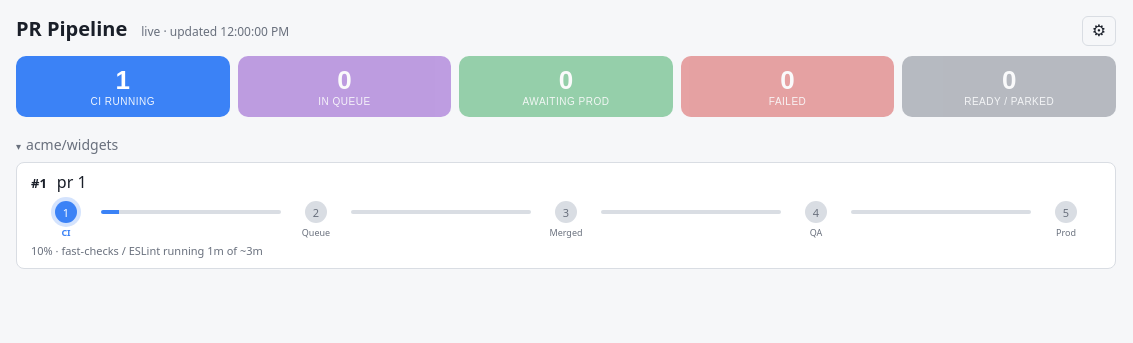
App › passes per-repo accuracy down to PR rows (visible in expanded panel)
The image size is (1133, 343).
Click the text "#1" at (39, 183), box [31,174,47,192]
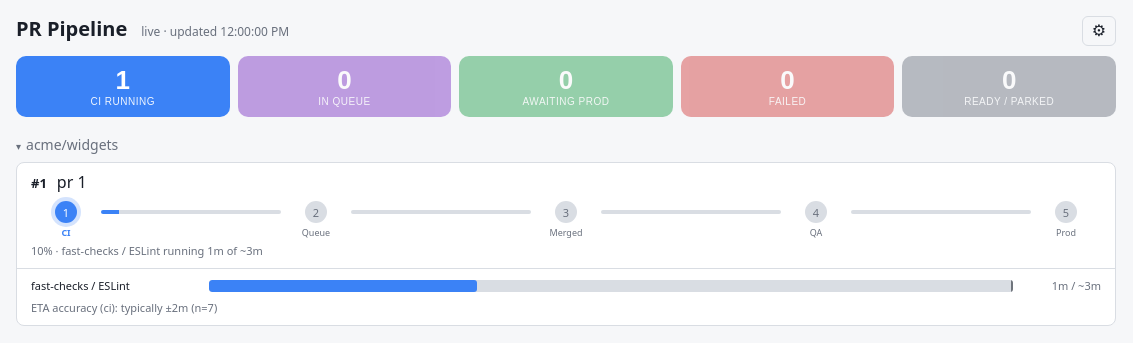
Now the list item "ETA accuracy (ci): typically ±2m (n=7)" is shown, box [31,300,217,315]
